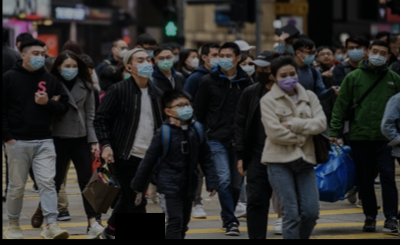with_mask: (277, 69, 299, 93), (134, 56, 154, 79), (254, 65, 273, 87), (175, 100, 194, 121), (27, 48, 45, 70), (368, 47, 387, 67), (60, 61, 78, 82), (218, 53, 235, 72), (301, 49, 318, 67), (347, 44, 364, 61), (156, 55, 174, 71), (240, 60, 256, 78), (284, 38, 296, 55), (207, 52, 219, 68), (117, 45, 129, 59), (188, 54, 200, 68), (145, 46, 156, 57), (334, 51, 343, 62), (172, 49, 179, 63)
without_mask: (318, 51, 334, 65)
